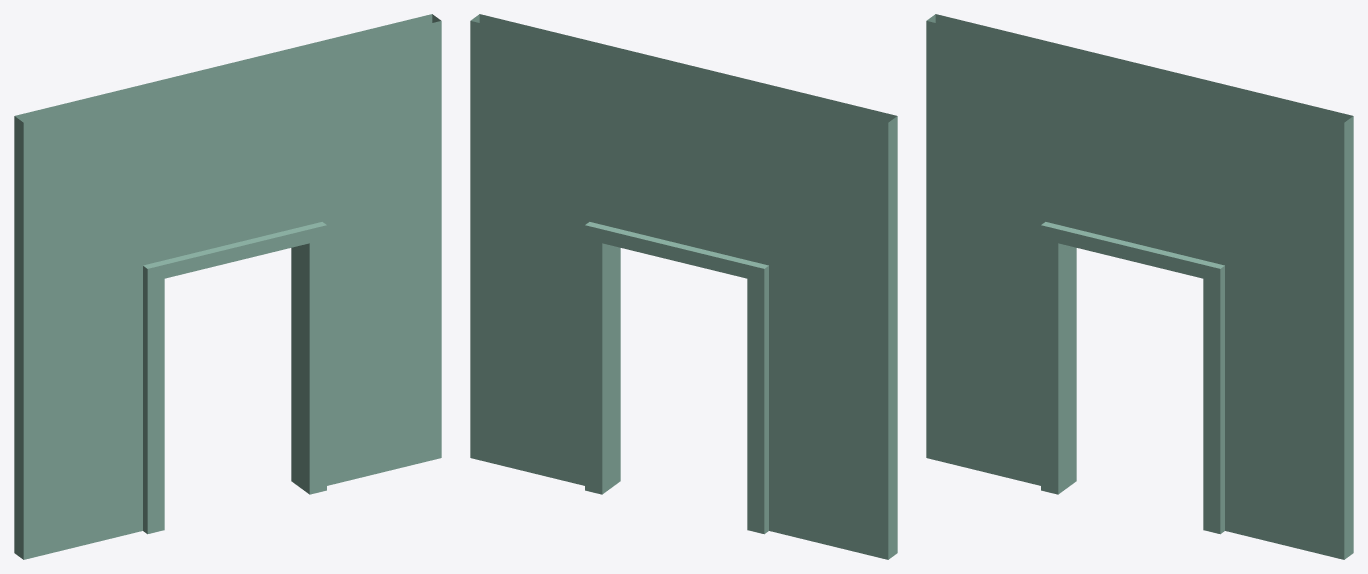
Rendered from Door_Frame_HallwayToDinner.FBX.
3 views of the same model, side by side, from view 1: azimuth 30°, elevation 25°; view 2: azimuth 150°, elevation 25°; view 3: azimuth 330°, elevation 25° (orthographic).
Parts seen in each view (by area): view 1: Door_Frame_HallwayToDinner; view 2: Door_Frame_HallwayToDinner; view 3: Door_Frame_HallwayToDinner.
Boxes of the visible parts, x1=… form: Door_Frame_HallwayToDinner: x1=14, y1=14, x2=441, y2=559; Door_Frame_HallwayToDinner: x1=470, y1=14, x2=897, y2=559; Door_Frame_HallwayToDinner: x1=926, y1=14, x2=1353, y2=559.
Bounding box in the file's own units: 5.04 × 5.04 × 0.3873.
